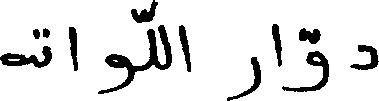X: (280, 23, 327, 96), (99, 5, 131, 98), (228, 52, 259, 100), (352, 40, 378, 74), (34, 23, 49, 72), (0, 48, 32, 70), (148, 0, 156, 73), (180, 20, 190, 76), (160, 20, 170, 74), (70, 22, 76, 75), (272, 19, 278, 70)
